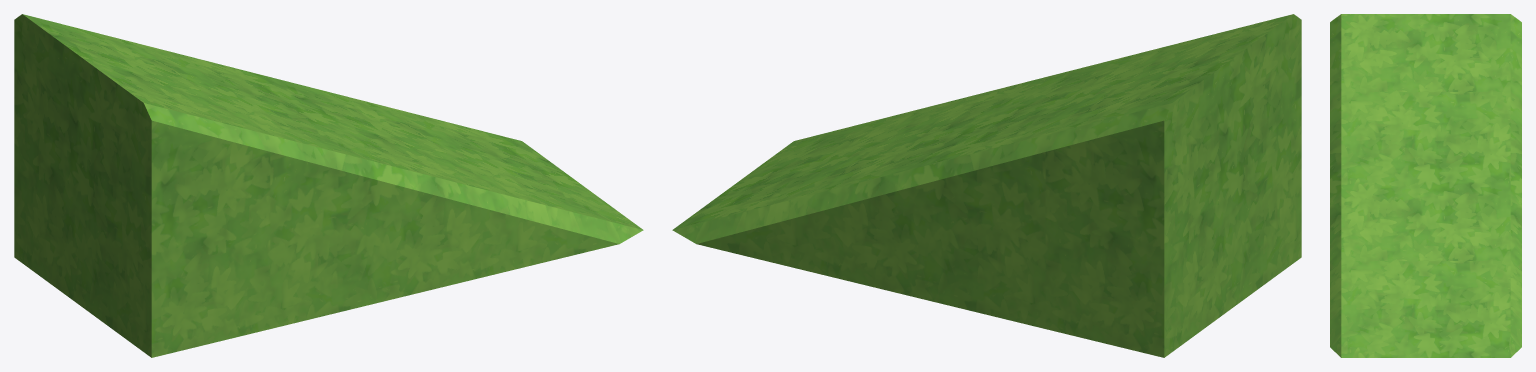
File: Ramp_1x1x4.fbx
3 views of the same model, side by side, from view 1: azimuth 30°, elevation 25°; view 2: azimuth 150°, elevation 25°; view 3: azimuth 270°, elevation 25° (orthographic). The views are drawn at different scales.
Visible parts, largest first — view 1: Ramp; view 2: Ramp; view 3: Ramp.
Part boxes in pixels (x1,y1,x2,y2): Ramp: (14, 14, 643, 357); Ramp: (672, 14, 1301, 357); Ramp: (1330, 14, 1521, 357).
Bounding box in the file's own units: 4.2 × 2 × 2.
